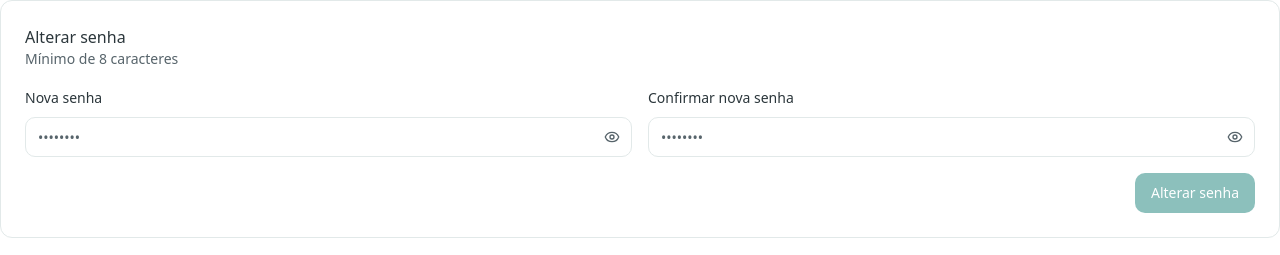
ChangePasswordCard › troca a senha pelo Auth, limpa os campos e avisa
Type "Nova-Teste-123" into the password field labelled "Nova senha".
click(328, 137); type("Nova-Teste-123")  # box x1=25 y1=117 x2=632 y2=157
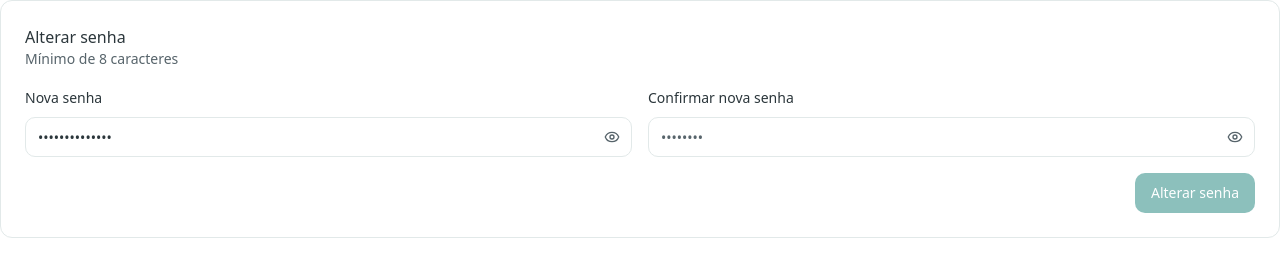
Type "Nova-Teste-123" into the password field labelled "Confirmar nova senha".
click(952, 137); type("Nova-Teste-123")  # box x1=648 y1=117 x2=1255 y2=157
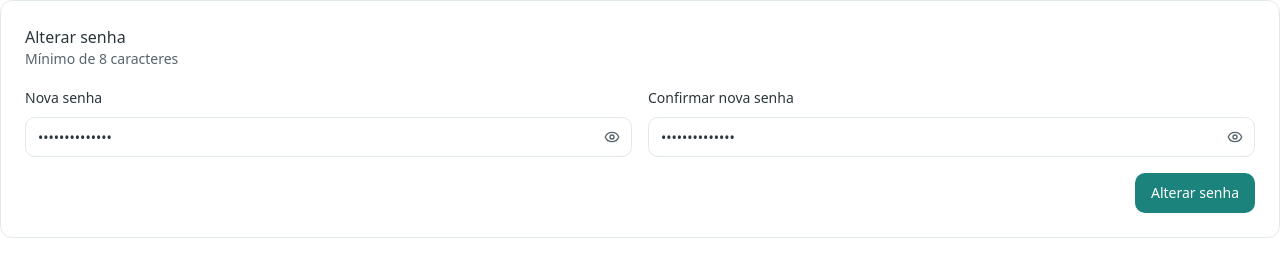
Click the button "Alterar senha".
click(1195, 193)  # box x1=1135 y1=173 x2=1255 y2=213
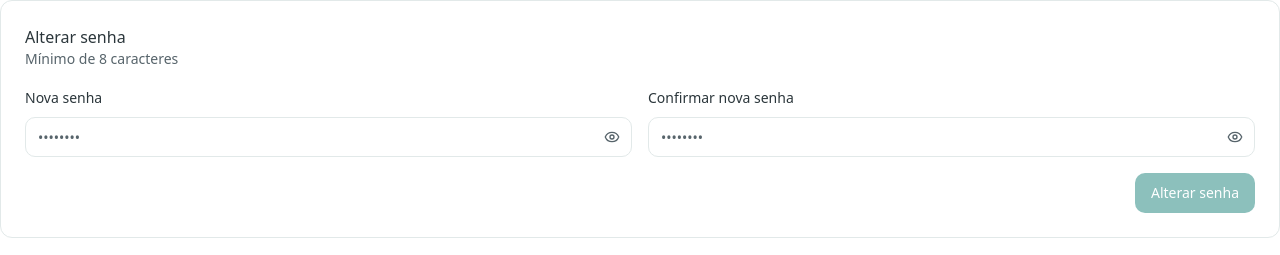
Check: the password field labelled "Nova senha" is empty, box x1=25 y1=117 x2=632 y2=157
